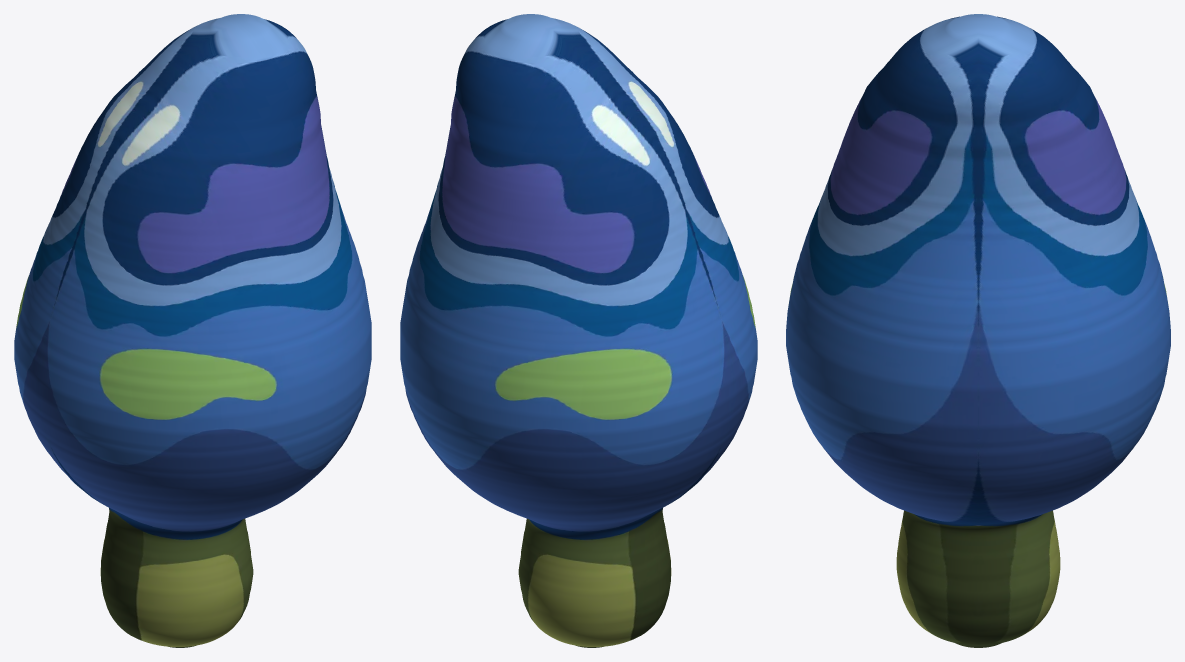
The model's file is blue_cup_fungus.glb.
The picture shows the model from 3 angles, left to right: view 1: azimuth 30°, elevation 25°; view 2: azimuth 150°, elevation 25°; view 3: azimuth 270°, elevation 25°; orthographic projection. The views are drawn at different scales.
Parts seen in each view (by area): view 1: blue_cup_fungus; view 2: blue_cup_fungus; view 3: blue_cup_fungus.
Boxes of the visible parts, <box> form: blue_cup_fungus: <box>14,14,371,647</box>; blue_cup_fungus: <box>400,14,757,647</box>; blue_cup_fungus: <box>786,14,1170,647</box>.
Size of the model in its own units: 1 by 1.84 by 1.
1 material, 1 textured.
